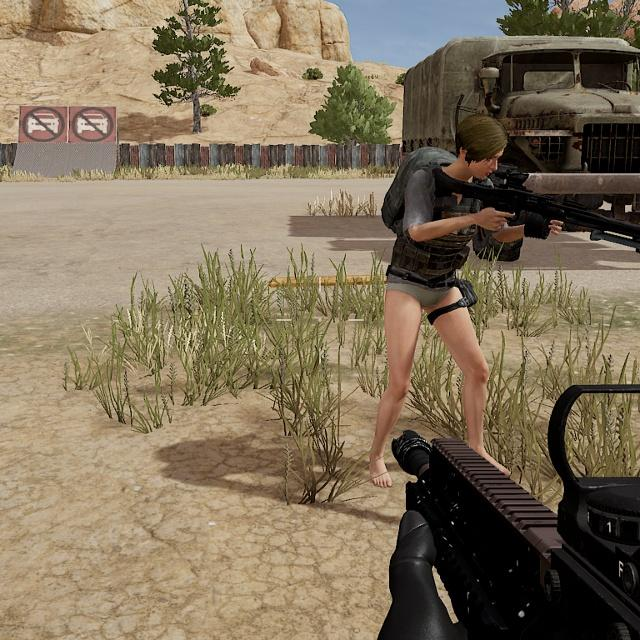head: (443, 106, 512, 189)
people: (363, 100, 527, 501)
